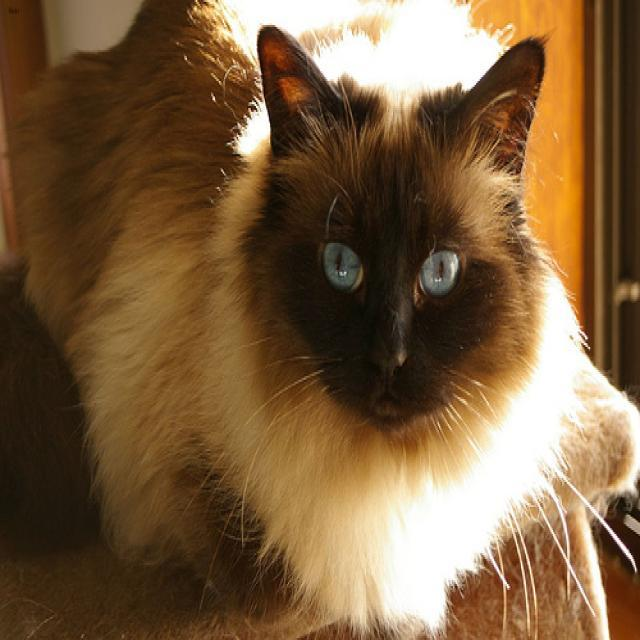Birman: (246, 24, 548, 471)
